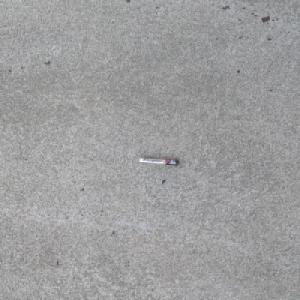Battery: (137, 157, 180, 166)
